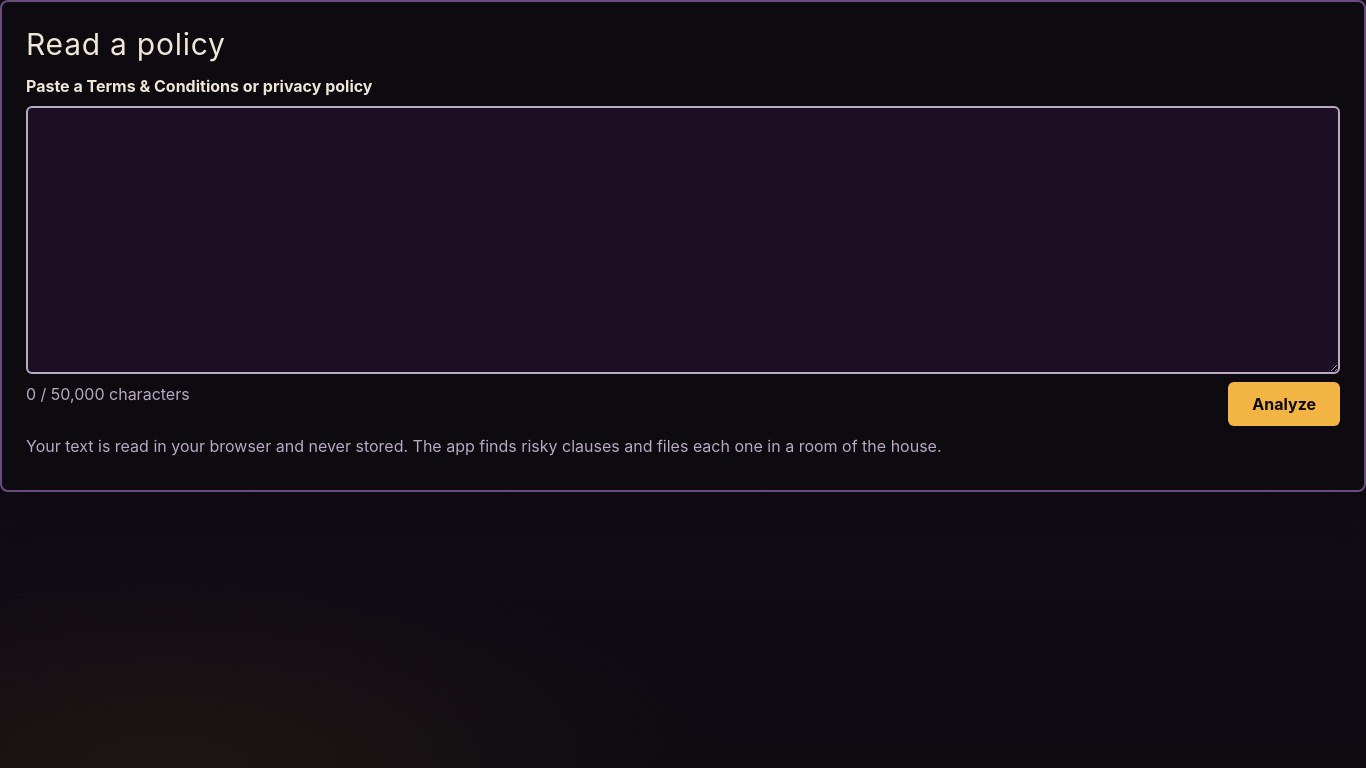
it: InputScreen (R2) › updates the counter as the user types
This screenshot has width=1366, height=768.
Type "Hello" into the text box labelled "Paste a Terms & Conditions or privacy policy" at (683, 240), box [26,106,1340,374]
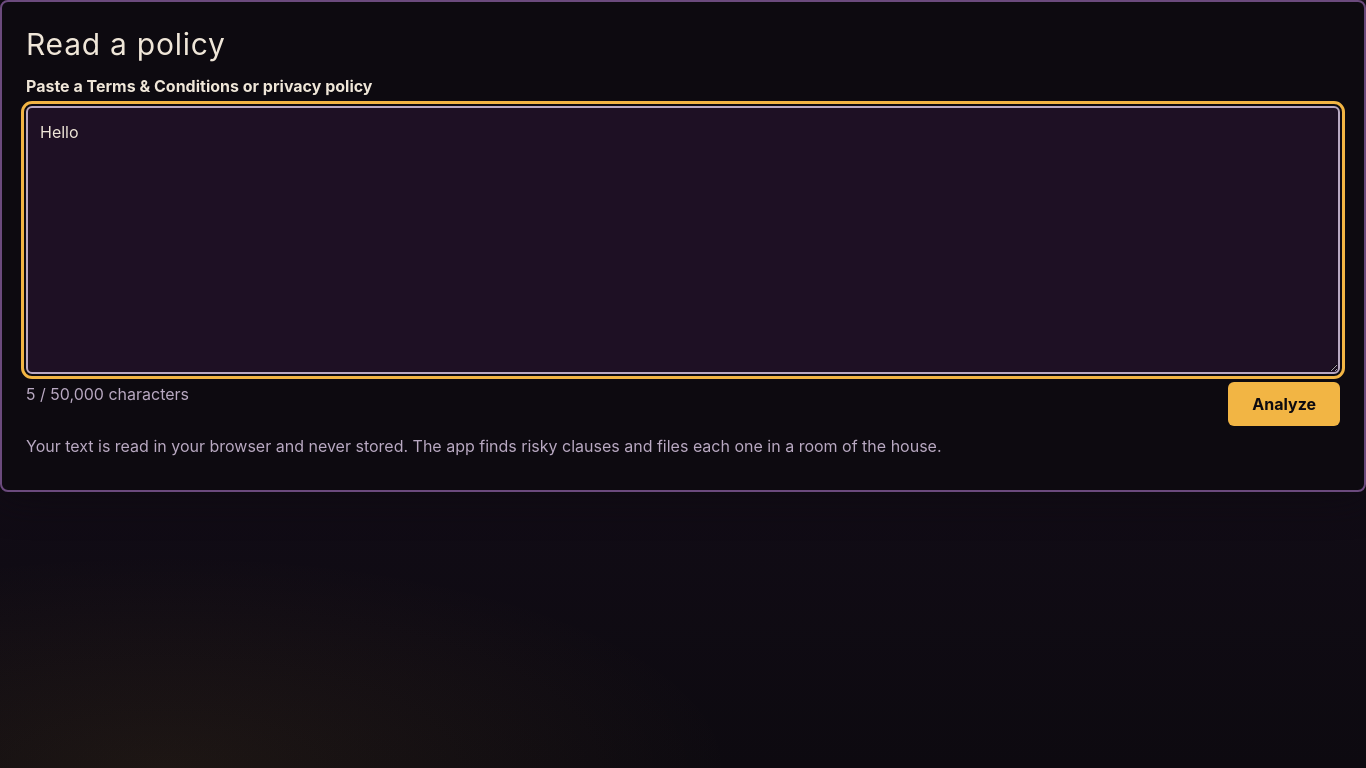
Result: the text "5 / 50,000 characters" is shown at [26,382,189,406]
